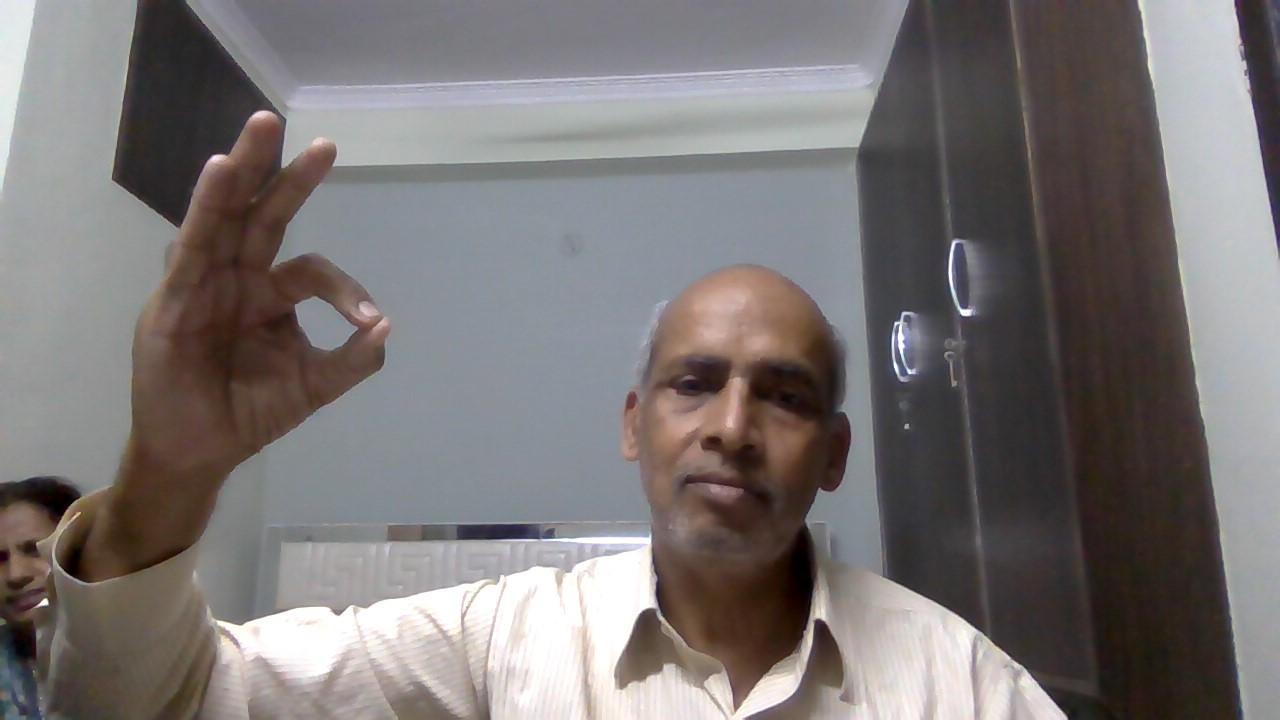Copy: (114, 97, 405, 524)
